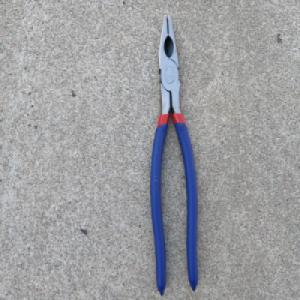Pliers: (147, 12, 199, 297)
